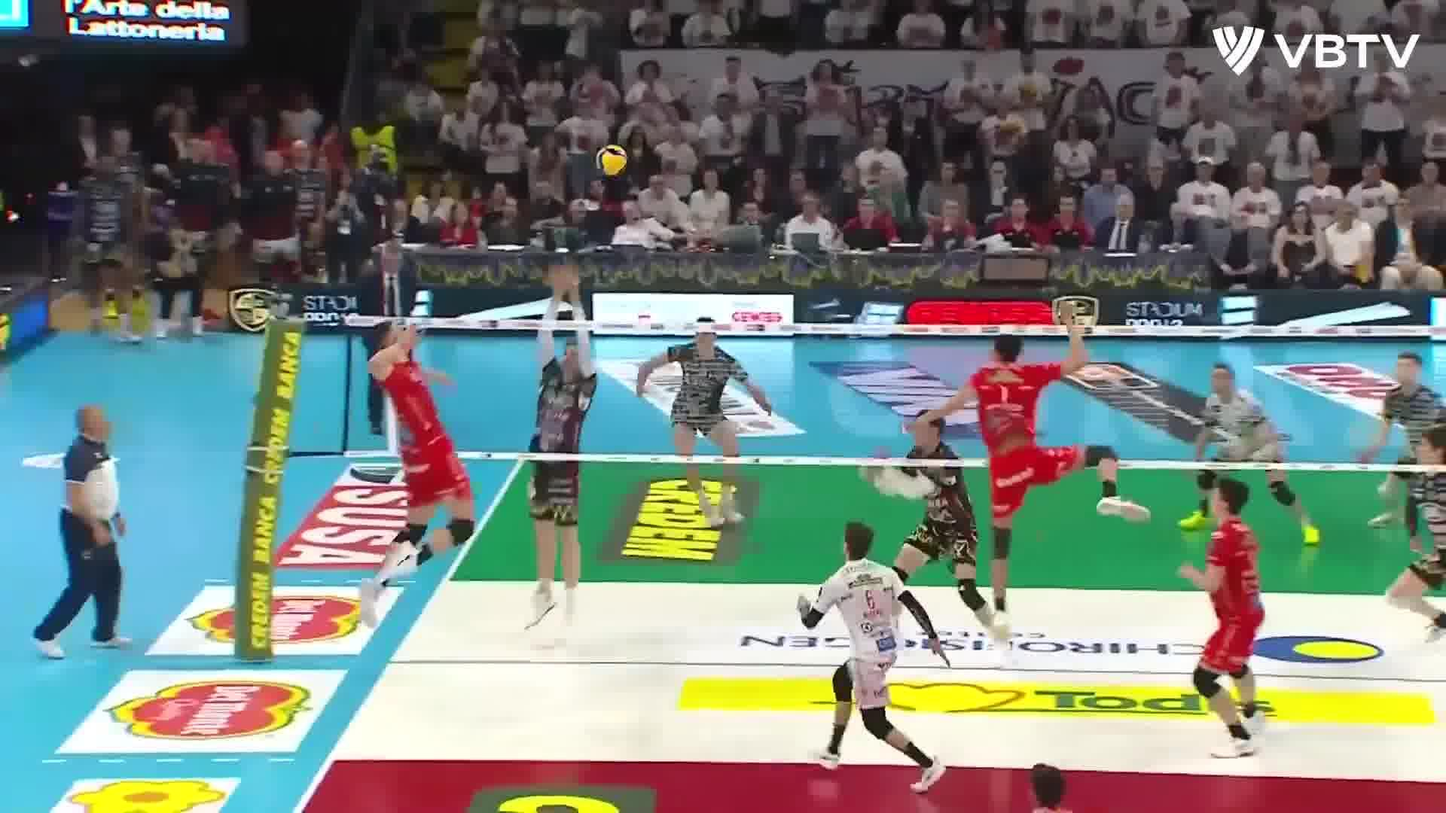balls: (595, 144, 632, 178)
